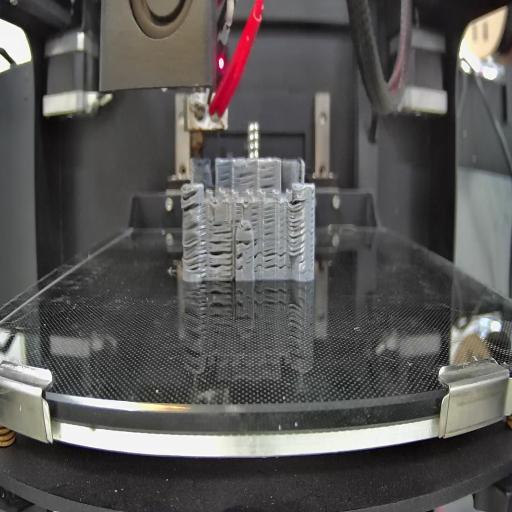cracks: (185, 222, 206, 273), (288, 201, 306, 255), (209, 239, 233, 275), (180, 188, 203, 211), (264, 246, 278, 271), (235, 168, 254, 186), (264, 208, 274, 237), (254, 240, 263, 272), (213, 222, 233, 235), (262, 169, 274, 188), (219, 172, 233, 185), (278, 248, 288, 266), (236, 200, 244, 222), (237, 251, 244, 271), (251, 206, 258, 225), (237, 238, 252, 246), (299, 260, 305, 272), (244, 226, 251, 233)
